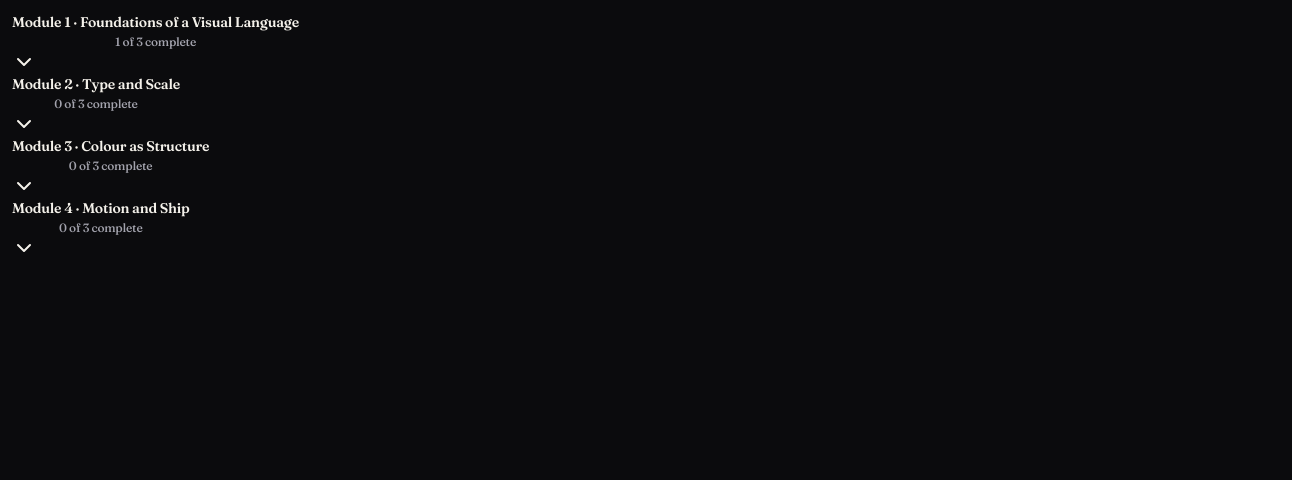
CurriculumList › marks a completed lesson
The width and height of the screenshot is (1292, 480).
Click the button "Module 1 · Foundations of a Visual Language 1 of 3 complete". click: [155, 43]
box: [12,12,299,74]
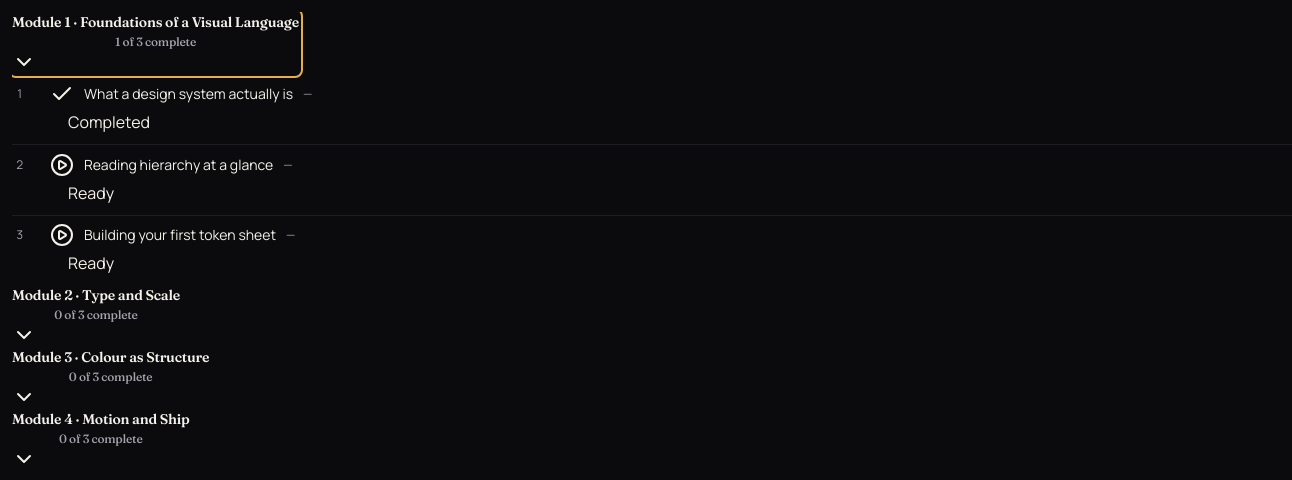
Now the text "Completed" is shown, box [68,110,150,136]
